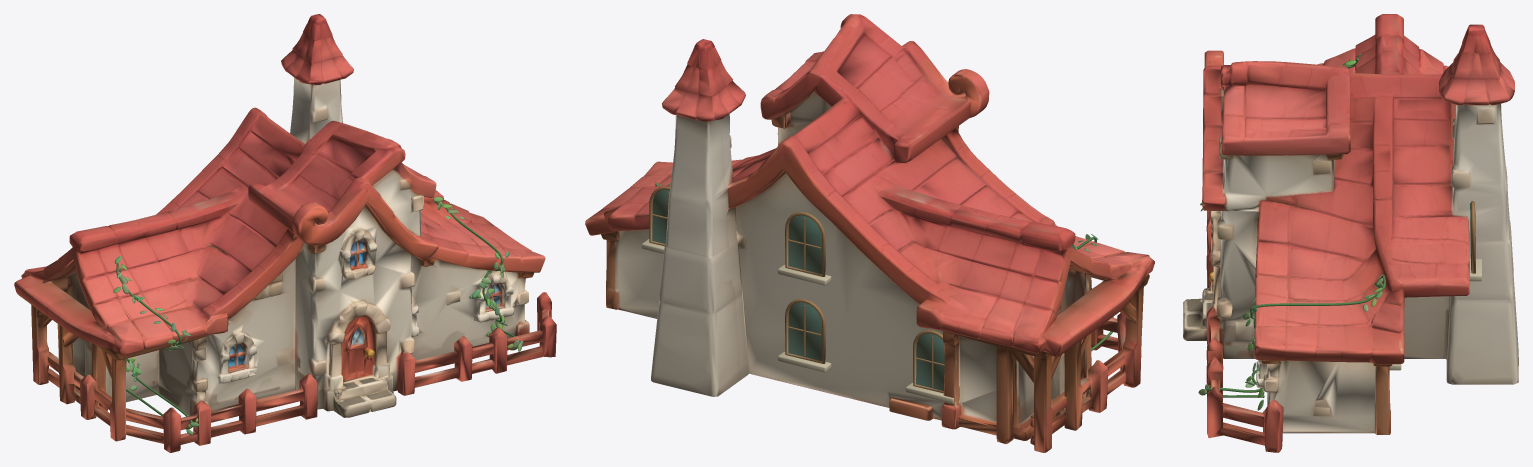
The model's file is cottage.glb.
3 renders of one model, left to right at view 1: azimuth 30°, elevation 25°; view 2: azimuth 150°, elevation 25°; view 3: azimuth 270°, elevation 25°, orthographic. The views are drawn at different scales.
Parts seen in each view (by area): view 1: node_0, Facade ivy leaves, detail-Ivy-stems; view 2: node_0, Rear window blue green glass, Rear window warm painted timber, Rear window pale stone sill; view 3: node_0, detail-Ivy-stems, Facade ivy leaves.
Boxes of the visible parts, left/top/right/bottom form: node_0: left=14, top=14, right=556, bottom=452; Facade ivy leaves: left=113, top=196, right=523, bottom=434; detail-Ivy-stems: left=116, top=202, right=519, bottom=429; node_0: left=585, top=14, right=1154, bottom=452; Rear window blue green glass: left=652, top=190, right=944, bottom=390; Rear window warm painted timber: left=649, top=186, right=944, bottom=393; Rear window pale stone sill: left=642, top=239, right=953, bottom=403; node_0: left=1183, top=14, right=1518, bottom=452; detail-Ivy-stems: left=1206, top=58, right=1385, bottom=397; Facade ivy leaves: left=1198, top=54, right=1384, bottom=410.
Bounding box in the file's own units: 8.21 × 5 × 4.44.
6 materials, 1 textured.
